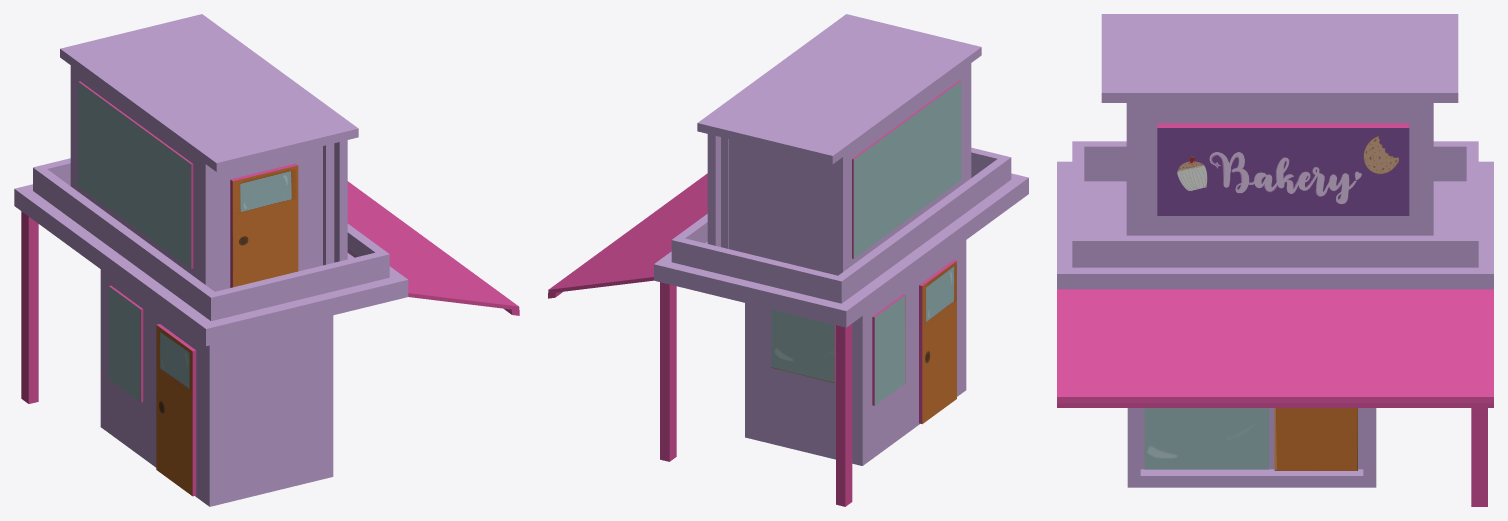
The model's file is gebouw3 1.fbx.
3 renders of one model, left to right at view 1: azimuth 30°, elevation 25°; view 2: azimuth 150°, elevation 25°; view 3: azimuth 270°, elevation 25°, orthographic. The views are drawn at different scales.
Visible parts, largest first — view 1: Cube, Cube.001; view 2: Cube, Cube.001; view 3: Cube, Cube.001.
Part boxes in pixels (bbox=[...]): Cube: bbox=[14, 14, 408, 506]; Cube.001: bbox=[21, 81, 519, 496]; Cube: bbox=[654, 14, 1028, 465]; Cube.001: bbox=[548, 80, 961, 506]; Cube: bbox=[1057, 14, 1493, 487]; Cube.001: bbox=[1057, 123, 1493, 506].
Bounding box in the file's own units: 1415 × 1523 × 1499.
Materials: 2 (2 with a texture image).
